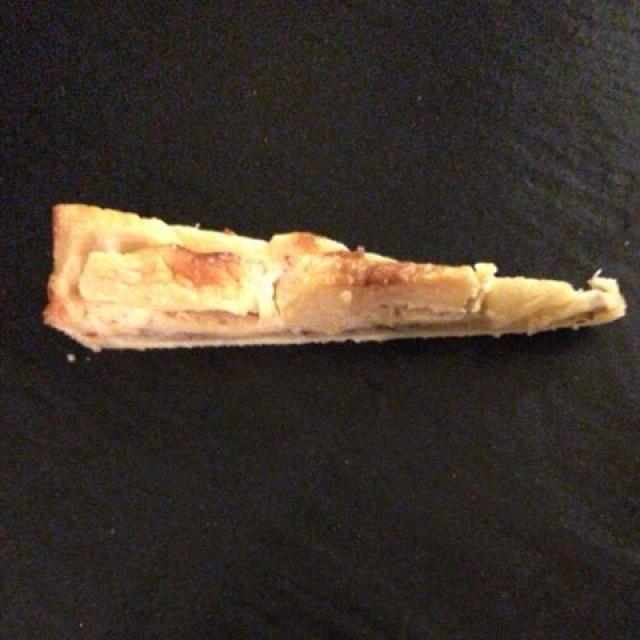apple-pie: (52, 195, 617, 341)
